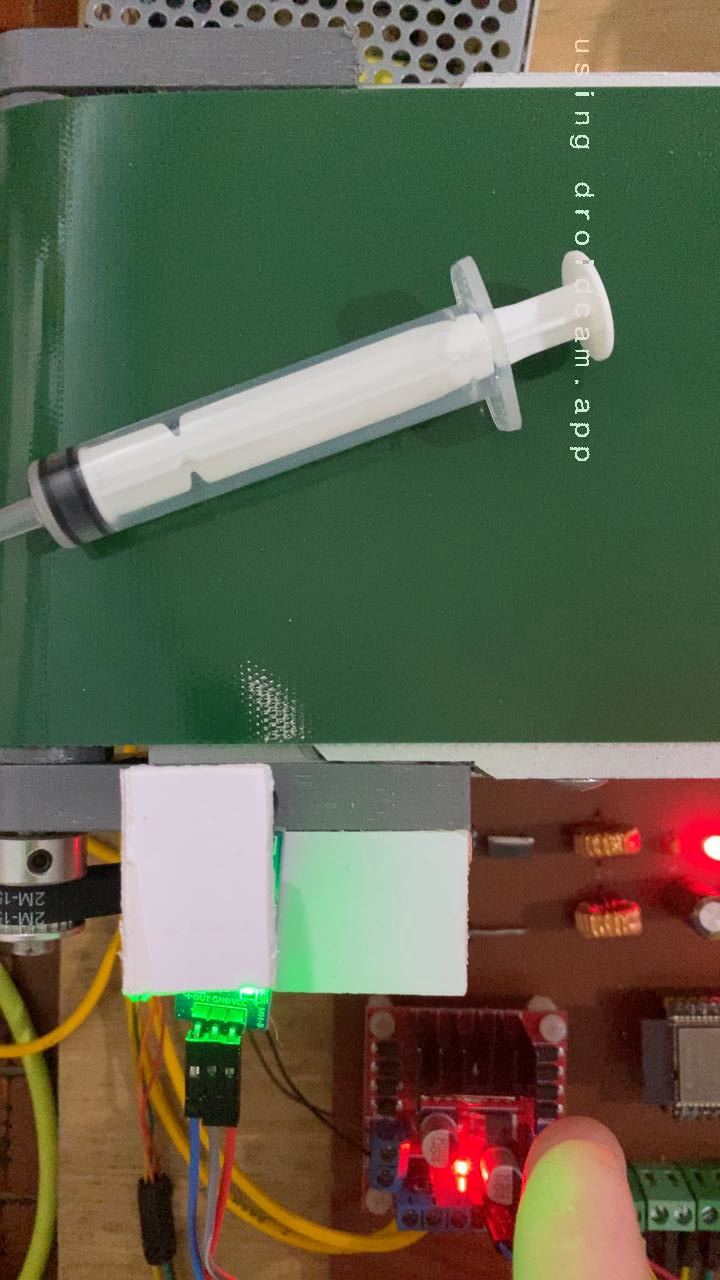syringe: (0, 243, 623, 557)
